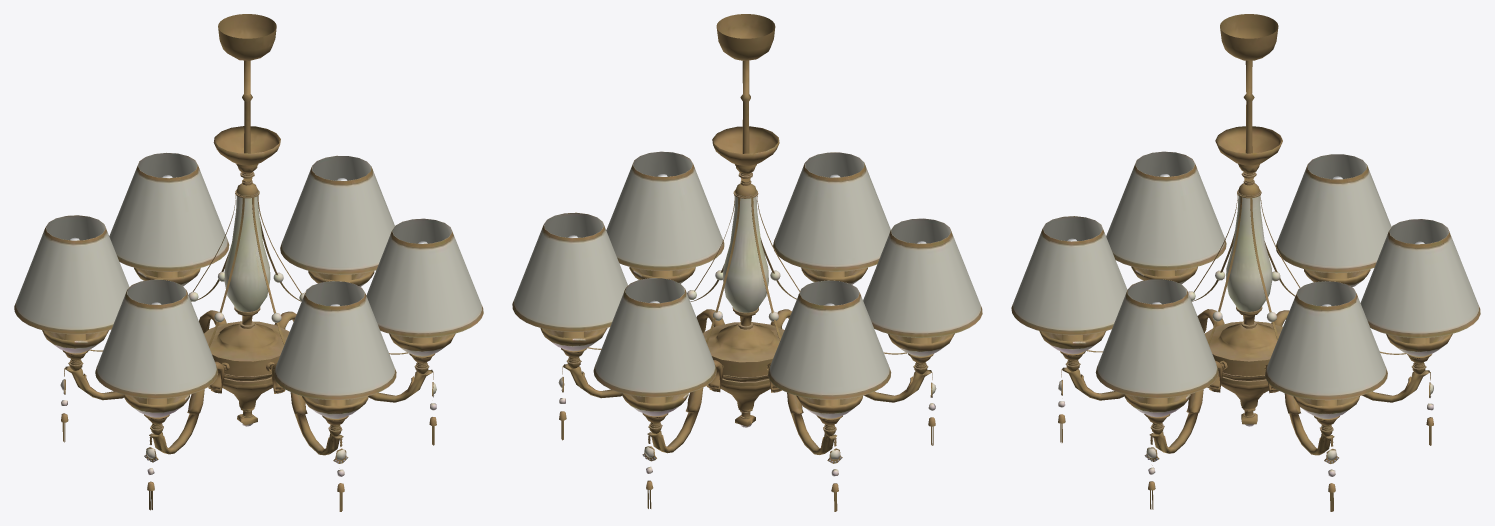
The model's file is Chandelier_01.glb.
The picture shows the model from 3 angles, left to right: view 1: azimuth 30°, elevation 25°; view 2: azimuth 150°, elevation 25°; view 3: azimuth 270°, elevation 25°; orthographic projection.
Parts seen in each view (by area): view 1: Chandelier_01; view 2: Chandelier_01; view 3: Chandelier_01.
Part boxes in pixels (x1,y1,x2,y2): Chandelier_01: (14,14,483,511); Chandelier_01: (512,14,982,511); Chandelier_01: (1011,14,1480,511).
Size of the model in its own units: 0.7465 by 0.7982 by 0.8155.
Materials: 2 (1 with a texture image).
